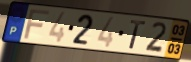2: (70, 14, 95, 47), (143, 21, 167, 54)
4: (47, 11, 68, 45), (96, 16, 116, 50)
F: (23, 9, 51, 41)
T: (128, 18, 147, 51)
